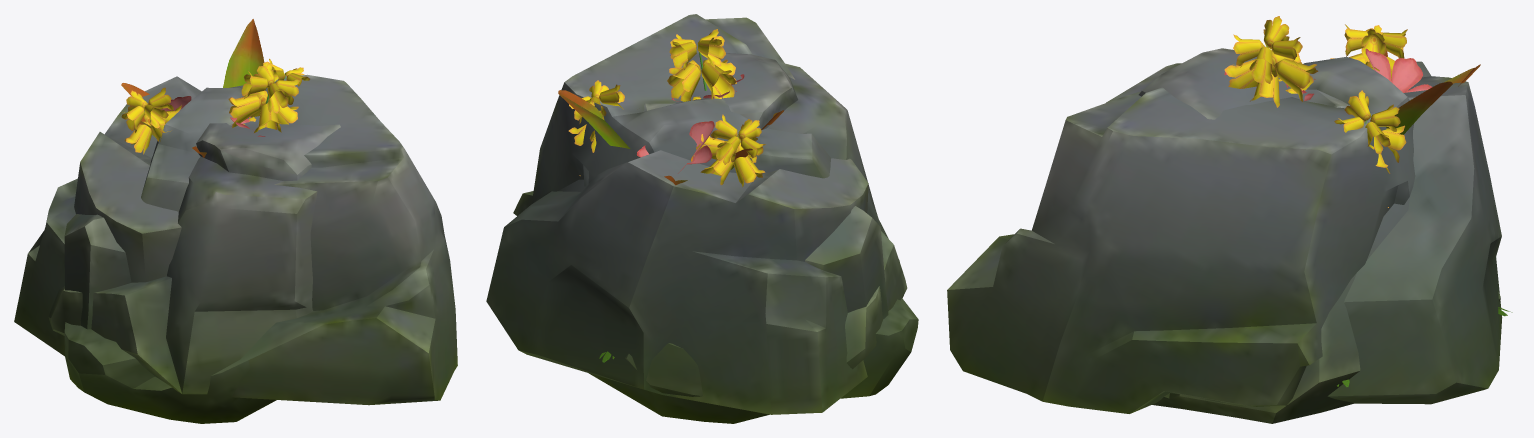
The model's file is decor.glb.
3 views of the same model, side by side, from view 1: azimuth 30°, elevation 25°; view 2: azimuth 150°, elevation 25°; view 3: azimuth 270°, elevation 25° (orthographic). The views are drawn at different scales.
Parts seen in each view (by area): view 1: Rock_Medium_3, Rock_Medium_1, Rock_Medium_2, Flower_4_Group, Plant_1_Big; view 2: Rock_Medium_2, Rock_Medium_3, Rock_Medium_1, Flower_4_Group, Plant_1_Big, Flower_3_Group; view 3: Rock_Medium_3, Rock_Medium_2, Rock_Medium_1, Flower_4_Group, Flower_3_Group, Plant_1_Big.
Boxes of the visible parts, bbox=[...] form: Rock_Medium_3: bbox=[64, 75, 457, 423]; Rock_Medium_1: bbox=[48, 116, 340, 394]; Rock_Medium_2: bbox=[14, 76, 201, 356]; Flower_4_Group: bbox=[121, 58, 309, 154]; Plant_1_Big: bbox=[121, 19, 264, 157]; Rock_Medium_2: bbox=[486, 150, 868, 414]; Rock_Medium_3: bbox=[513, 14, 918, 398]; Rock_Medium_1: bbox=[535, 53, 907, 423]; Flower_4_Group: bbox=[568, 29, 765, 187]; Plant_1_Big: bbox=[558, 90, 783, 185]; Flower_3_Group: bbox=[637, 74, 744, 173]; Rock_Medium_3: bbox=[947, 56, 1415, 413]; Rock_Medium_2: bbox=[1327, 61, 1502, 404]; Rock_Medium_1: bbox=[1106, 48, 1500, 423]; Flower_4_Group: bbox=[1224, 16, 1407, 207]; Flower_3_Group: bbox=[1224, 48, 1432, 101]; Plant_1_Big: bbox=[1379, 51, 1480, 134].
Bounding box in the file's own units: 3.42 × 2.75 × 3.86.
Materials: 7 (7 with a texture image).
